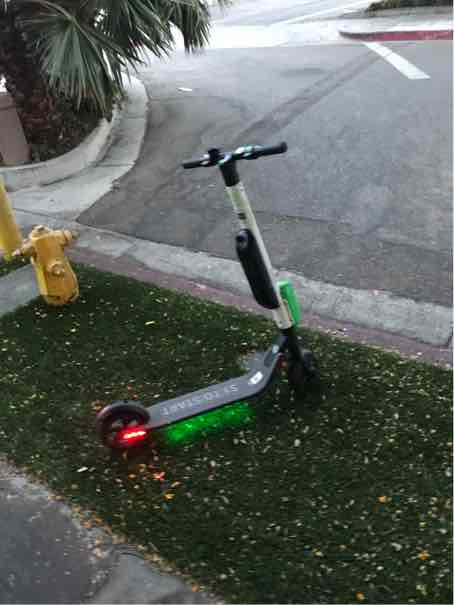scooter: (91, 129, 328, 456)
